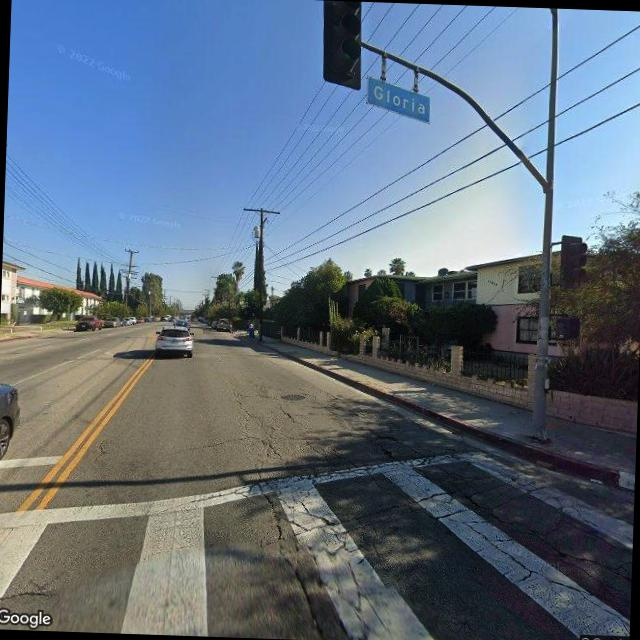crack: (213, 381, 623, 640)
